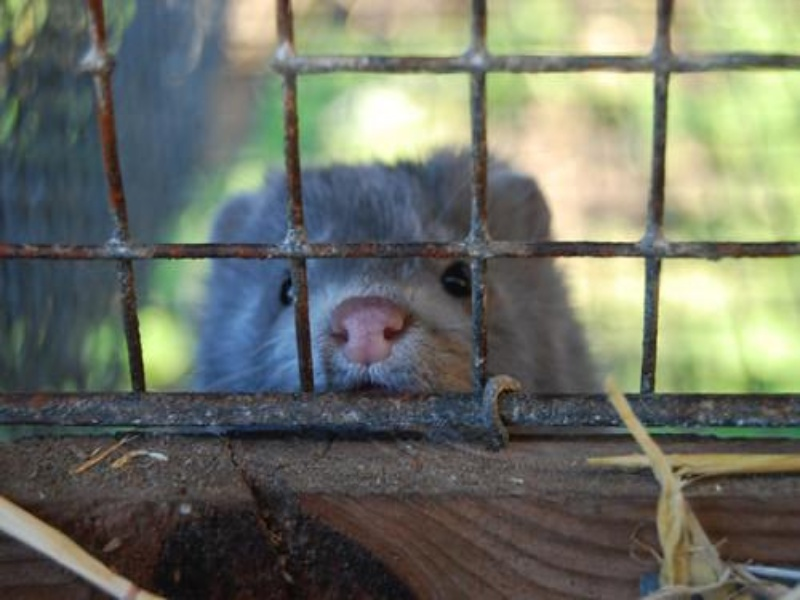minkish: (176, 142, 611, 399)
